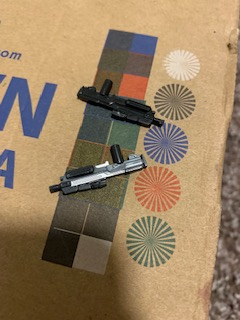rifle: (46, 143, 149, 197), (70, 77, 168, 132)
